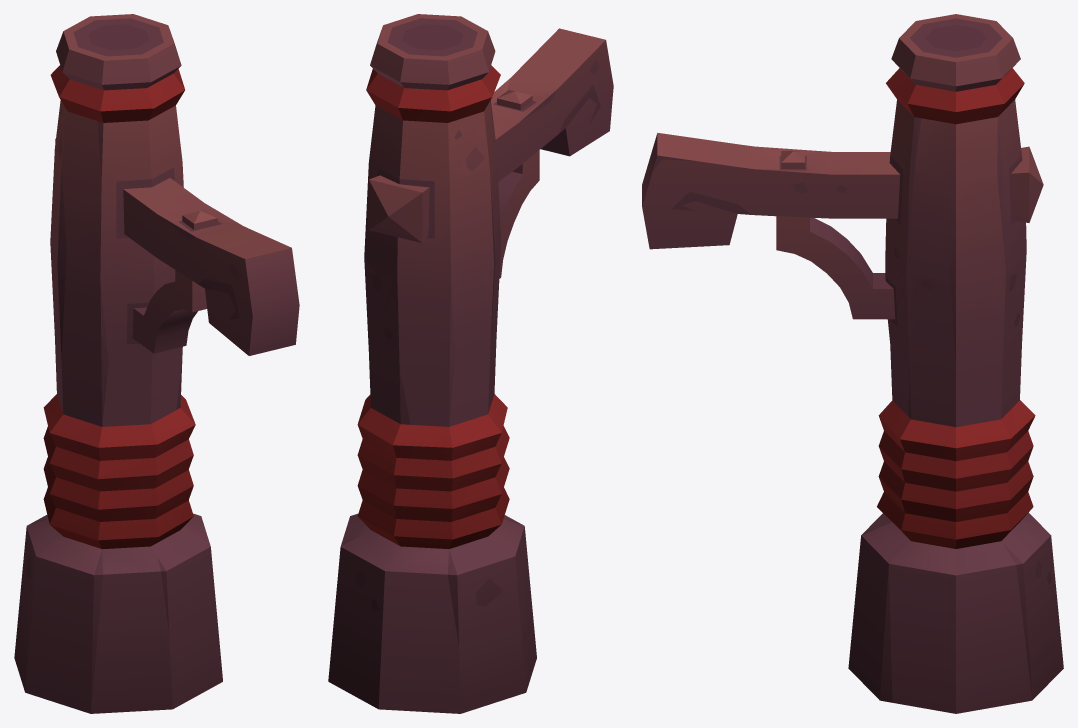
The model's file is post_2.glb.
The picture shows the model from 3 angles, left to right: view 1: azimuth 30°, elevation 25°; view 2: azimuth 150°, elevation 25°; view 3: azimuth 270°, elevation 25°; orthographic projection.
Visible parts, largest first — view 1: post_2; view 2: post_2; view 3: post_2.
Part boxes in pixels (bbox=[...]): post_2: bbox=[14, 14, 299, 713]; post_2: bbox=[328, 14, 613, 713]; post_2: bbox=[642, 14, 1063, 713].
Size of the model in its own units: 0.6615 by 2.14 by 1.29.
Materials: 1 (1 with a texture image).
